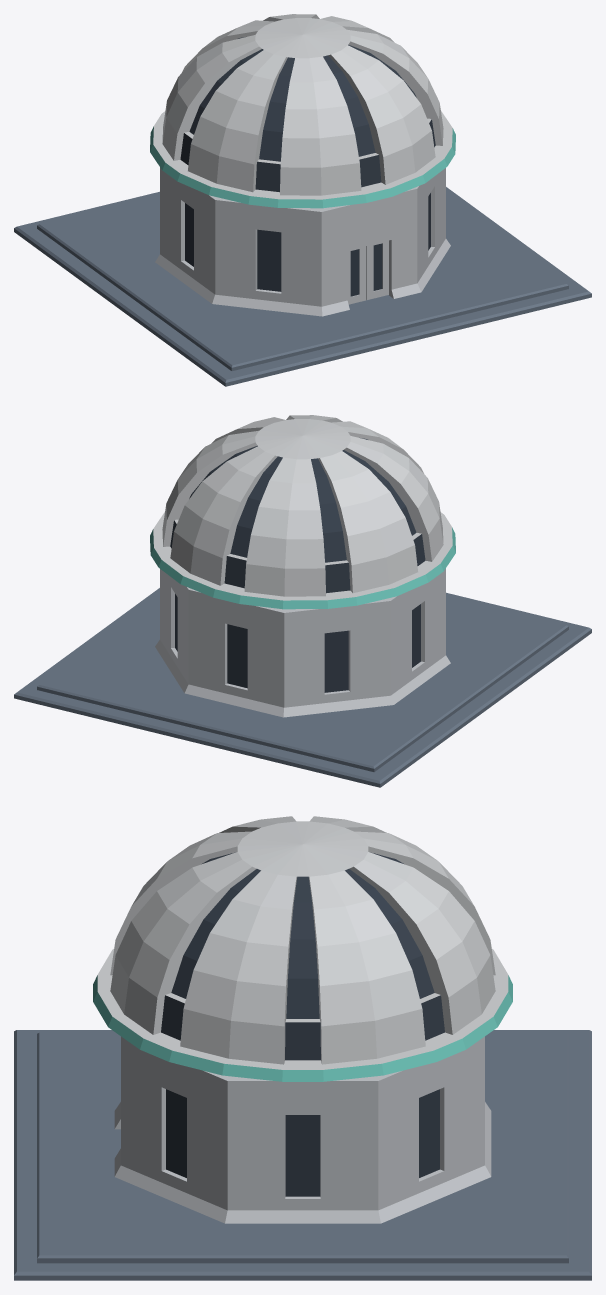
File: capital_building.glb
3 renders of one model, top to bottom at view 1: azimuth 30°, elevation 25°; view 2: azimuth 150°, elevation 25°; view 3: azimuth 270°, elevation 25°, orthographic. The views are drawn at different scales.
Parts seen in each view (by area): view 1: pavilion, door-r-panel, door-l-panel; view 2: pavilion; view 3: pavilion.
Part boxes in pixels (x1=…): pavilion: x1=14, y1=14, x2=591, y2=386; door-r-panel: x1=366, y1=240, x2=388, y2=299; door-l-panel: x1=347, y1=246, x2=366, y2=304; pavilion: x1=14, y1=415, x2=591, y2=787; pavilion: x1=14, y1=816, x2=591, y2=1280.
Size of the model in its own units: 20 by 12 by 20.
